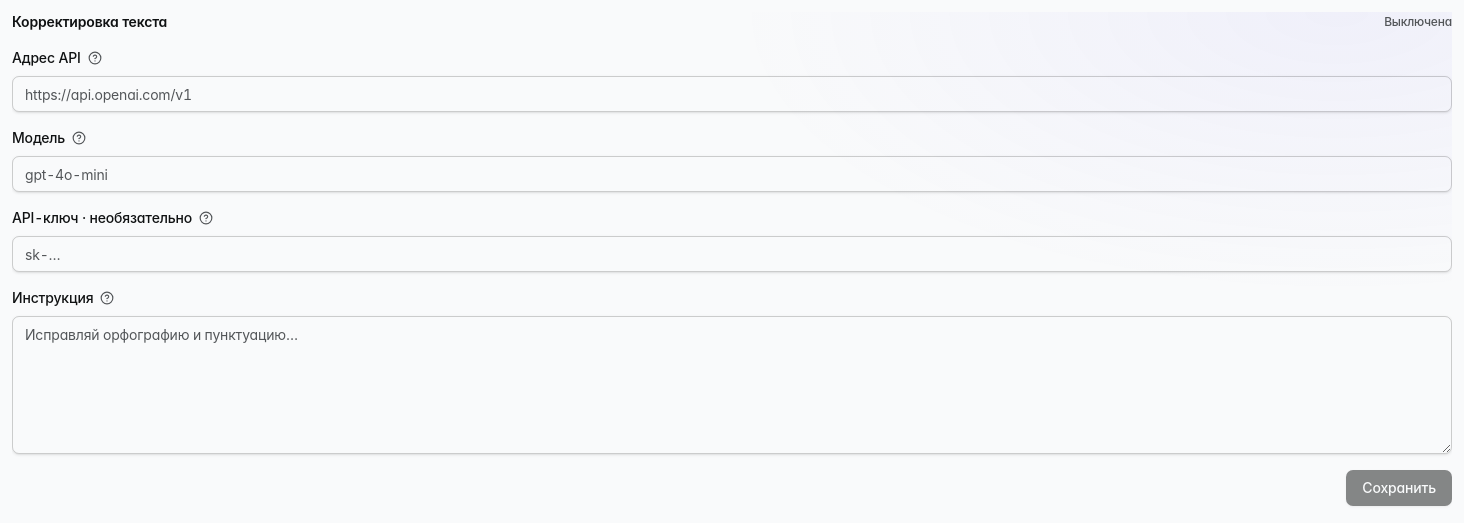
CorrectionSetting › explains Модель on hover and keyboard focus, dismisses with Escape, and provides examples
The image size is (1464, 523).
Expected: the field with placeholder "gpt-4o-mini" is shown, [12,156,1452,192]
Hover over the button named "Подсказка: Модель": (79, 138) [69,128,89,148]
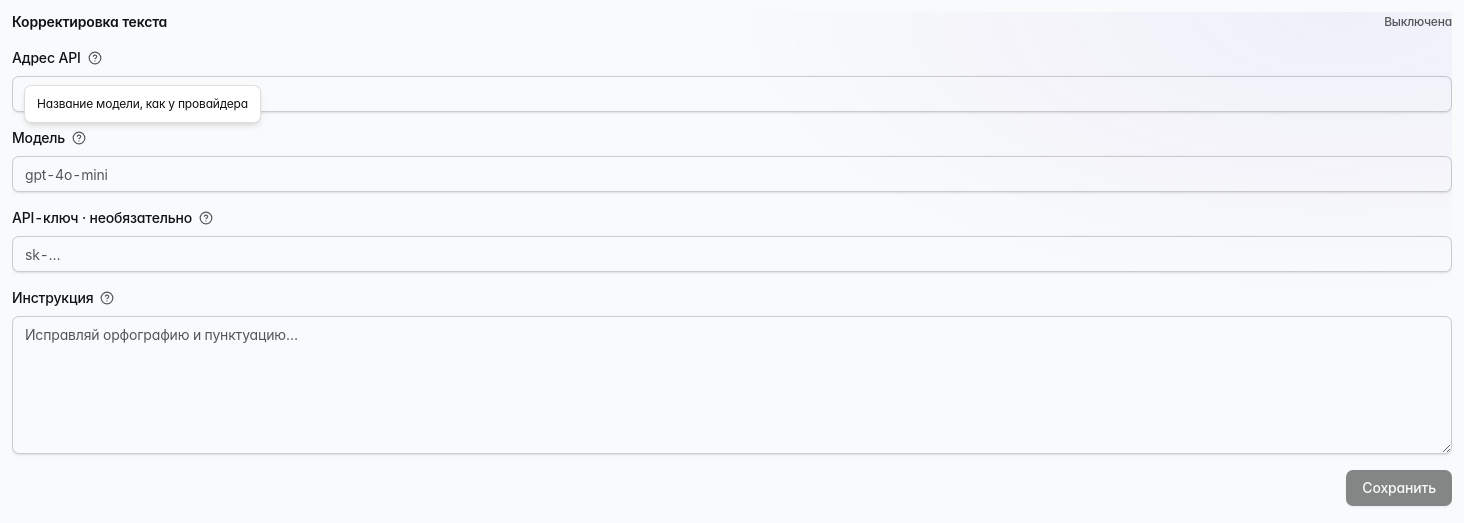
Expected: the tooltip reads "Название модели, как у провайдера", [37,96,248,111]
Press Escape
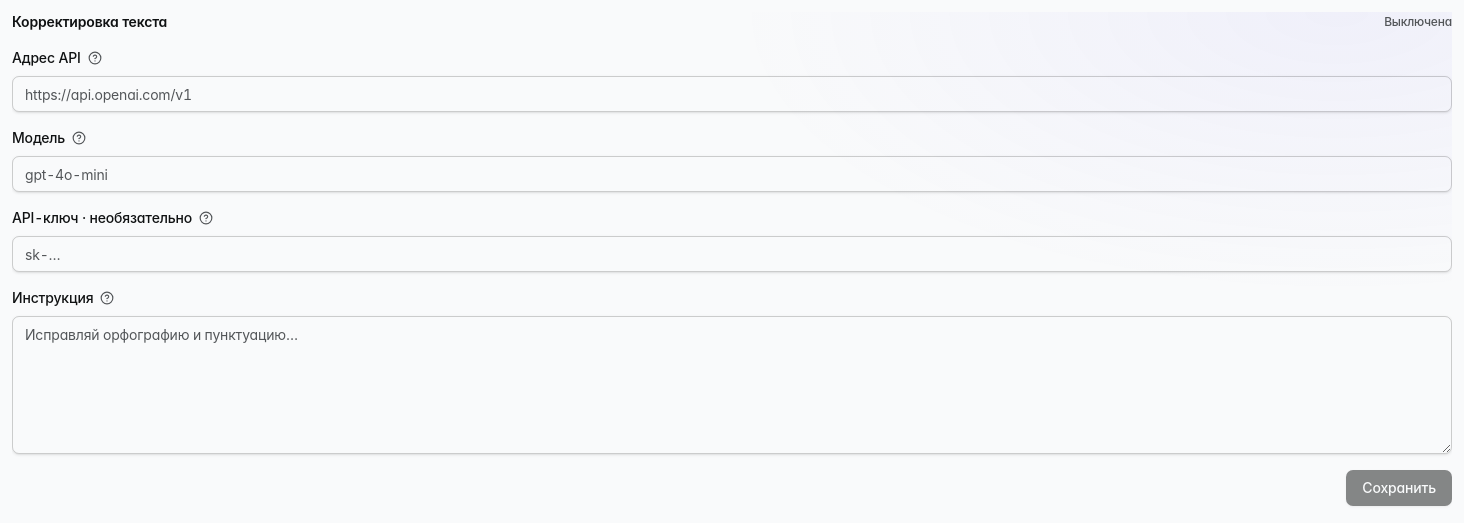
Expected: the tooltip "Название модели, как у провайдера" is gone
Move the pointer off the button named "Подсказка: Модель", box [69,128,89,148]
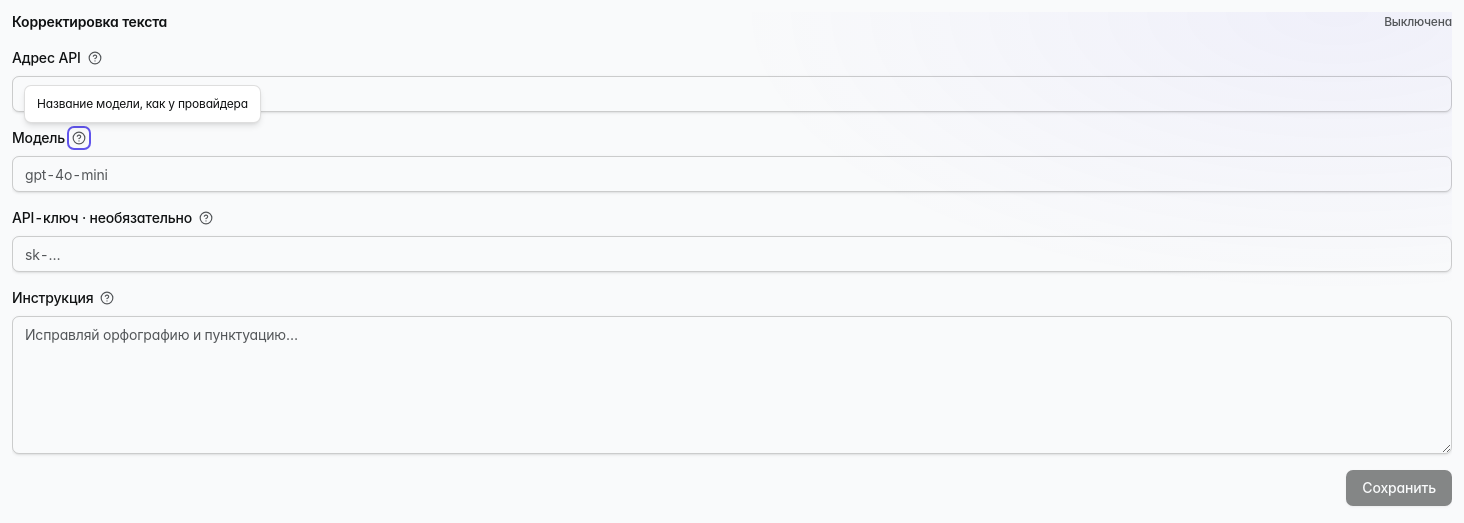
Expected: the tooltip reads "Название модели, как у провайдера", [37,96,248,111]
Press Escape
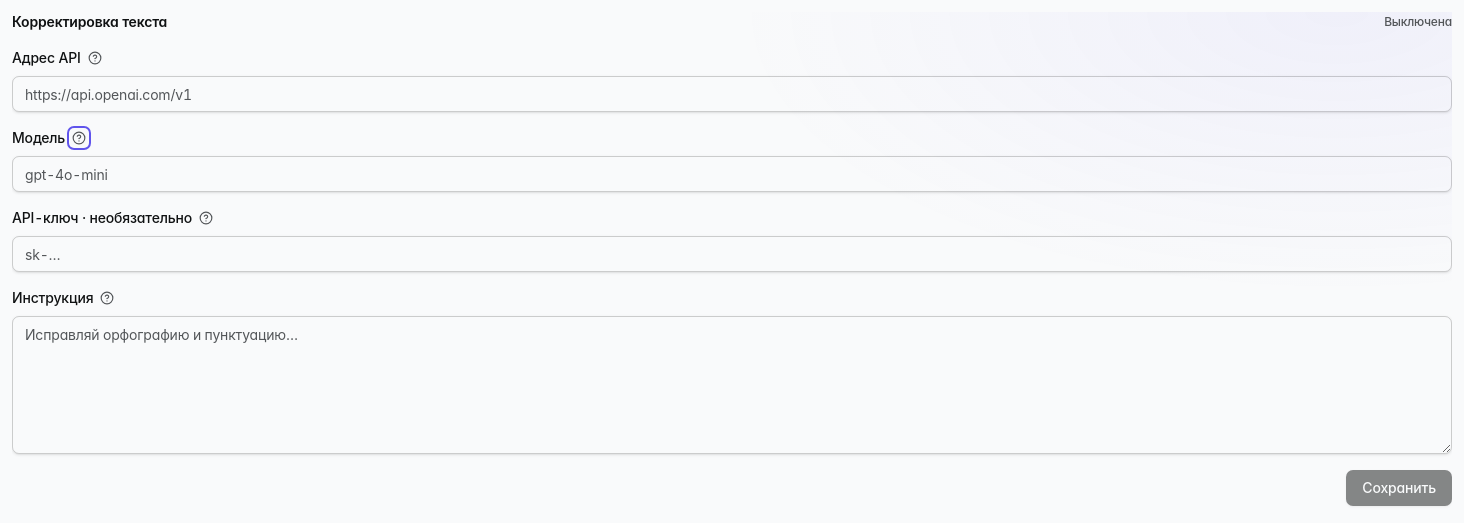
Expected: the tooltip "Название модели, как у провайдера" is gone
